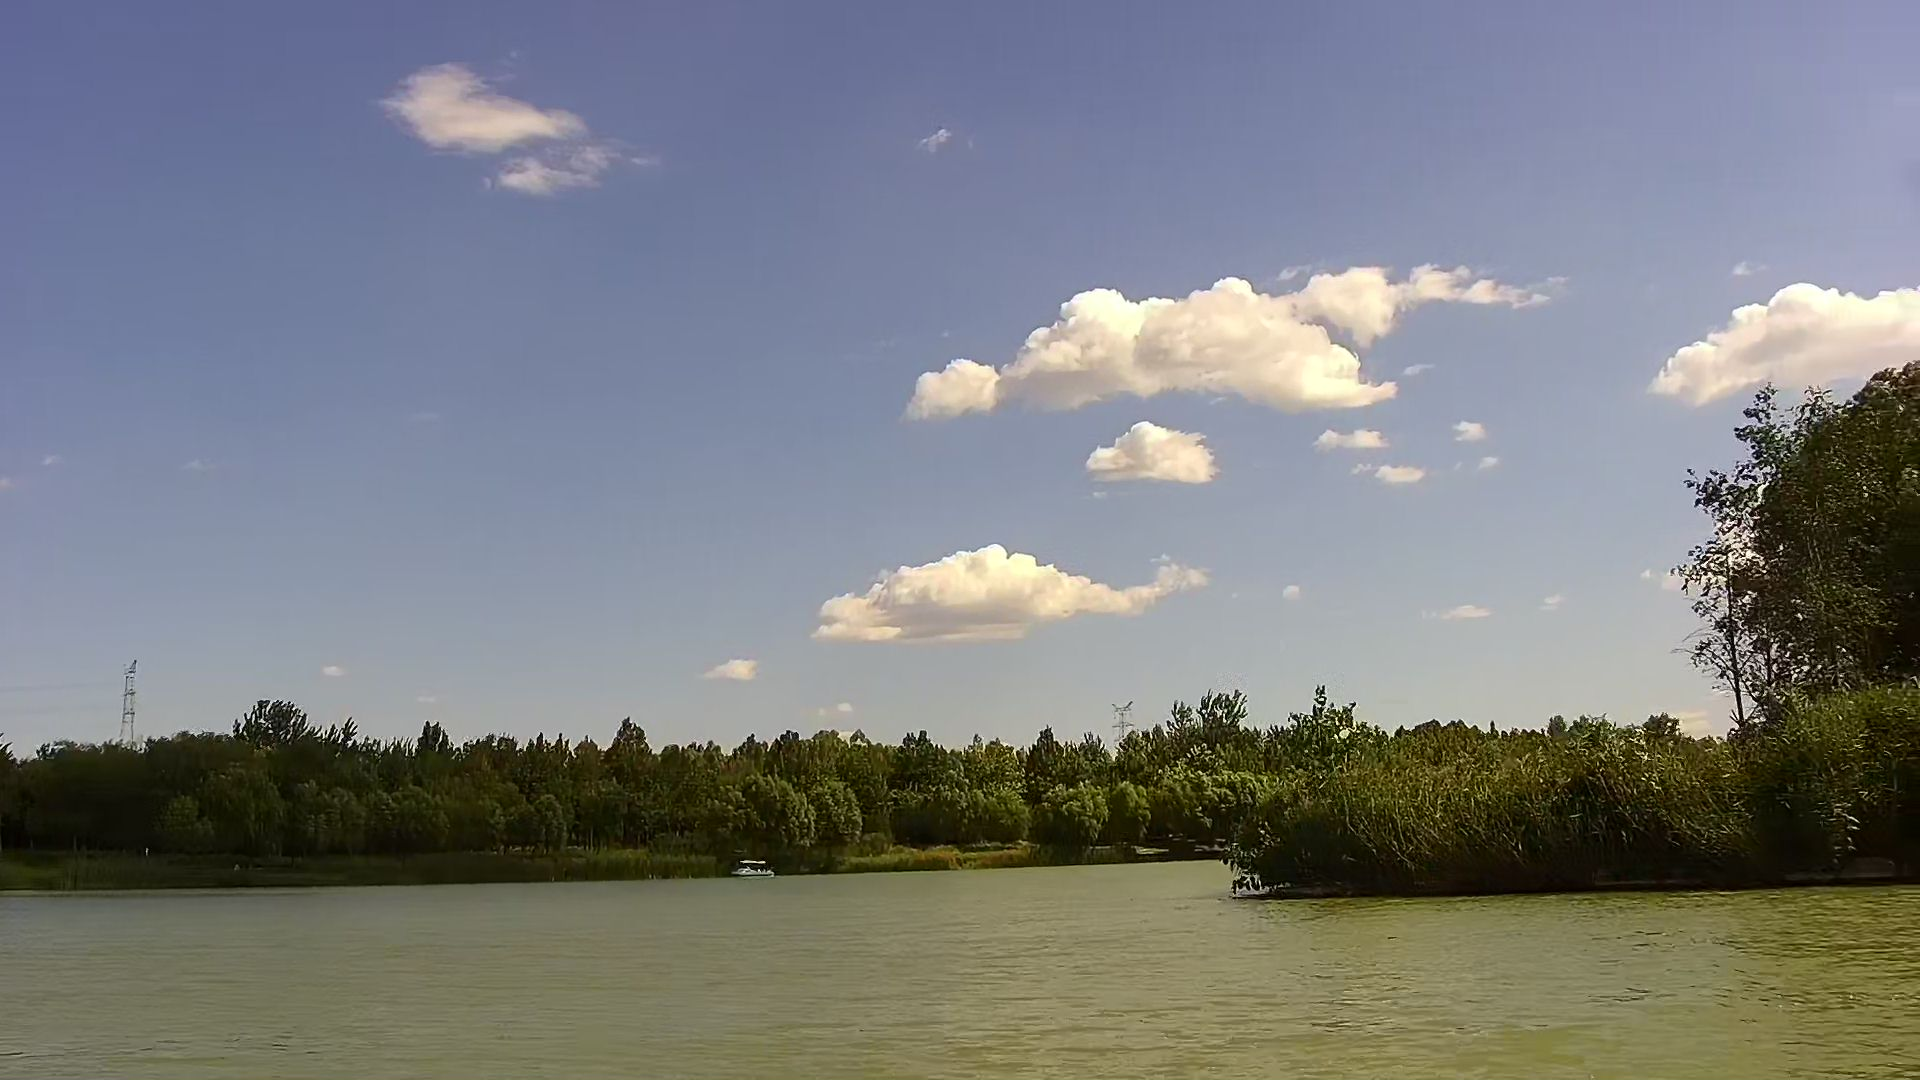boat: (729, 856, 778, 877)
